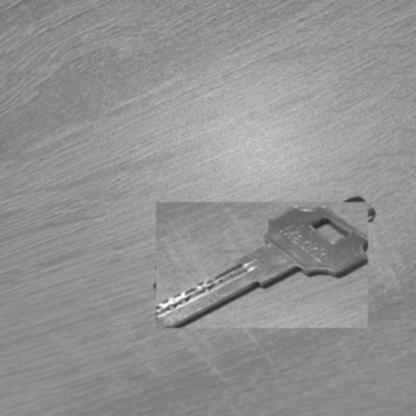key: (156, 202, 368, 328)
